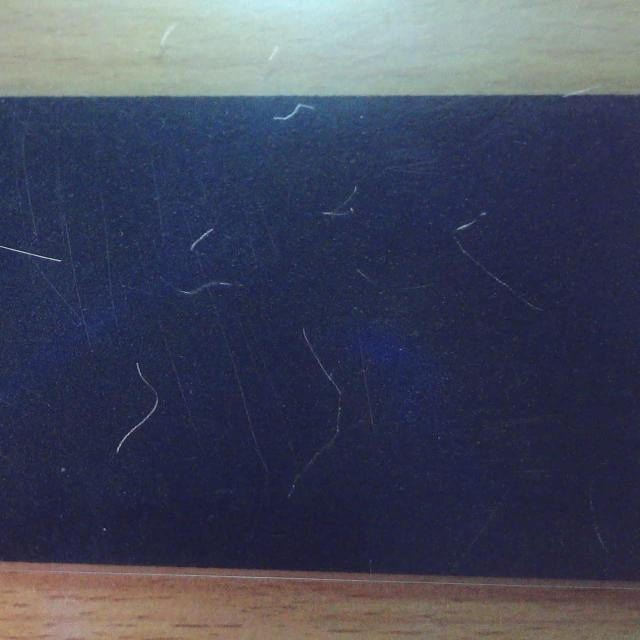defect: (290, 328, 348, 500), (452, 213, 544, 312), (114, 364, 159, 454), (0, 240, 63, 268), (320, 185, 358, 221), (171, 276, 233, 298), (273, 102, 316, 124), (192, 227, 215, 256)
